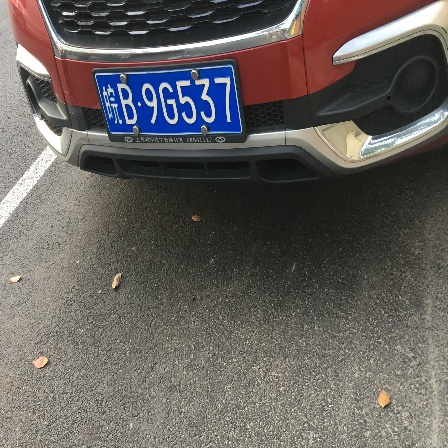plate: (96, 68, 243, 138)
